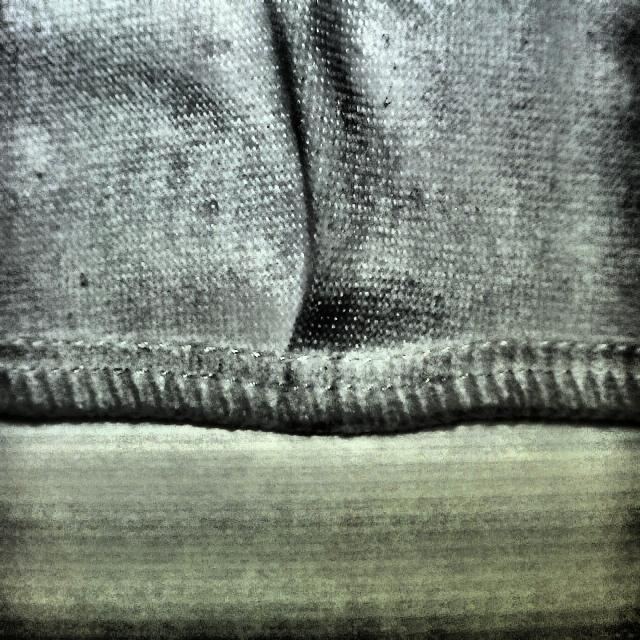gray stitch: (252, 176, 371, 440)
